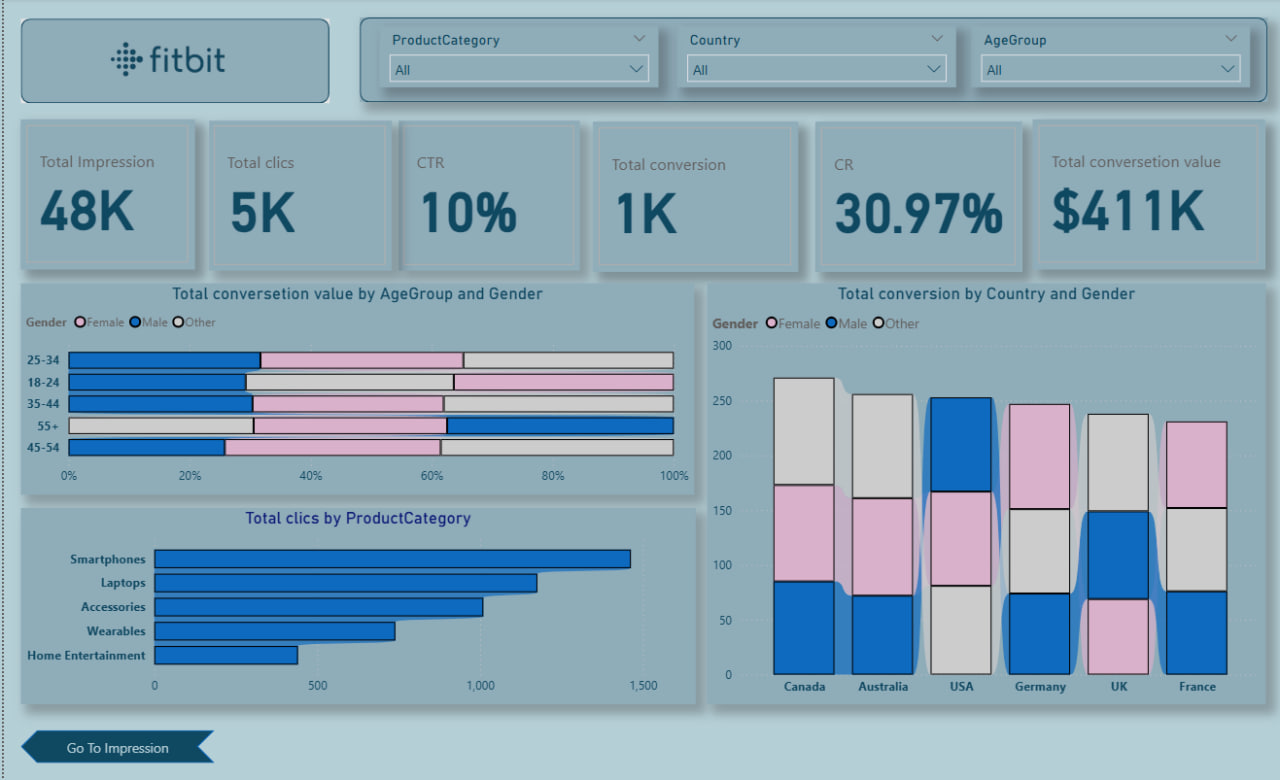

What the dashboard file says about the page in this screenshot:
{"tool":"powerbi","page":{"name":"Commercial Value","canvas":[1280,788],"ordinal":2},"visuals":[{"type":"shape","box":[17.5,20.2,309.3,84.7],"z":0},{"type":"cardVisual","fields":{"Data":["My measure.CTR"]},"box":[395.7,122.9,181.4,150],"z":1000},{"type":"image","box":[32.5,0,265,126.2],"z":2000},{"type":"cardVisual","fields":{"Data":["My measure.CR"]},"box":[814.3,124.3,207.1,150],"z":3000},{"type":"cardVisual","fields":{"Data":["My measure.Total Impression"]},"box":[17.1,121.4,174.3,150],"z":4000},{"type":"cardVisual","fields":{"Data":["My measure.Total conv value"]},"box":[1031.4,121.4,232.9,150],"z":5000},{"type":"cardVisual","fields":{"Data":["My measure.Total conversion"]},"box":[591.4,124.3,205.7,150],"z":6000},{"type":"cardVisual","fields":{"Data":["My measure.Total clics"]},"box":[205.7,122.9,182.9,150],"z":7000},{"type":"shape","box":[356.7,20,910,85],"z":8000},{"type":"slicer","fields":{"Values":["FitBitDataMarketing.AgeGroup"]},"box":[970,28.3,280,61.7],"z":9000},{"type":"slicer","fields":{"Values":["FitBitDataMarketing.Country"]},"box":[675,28.3,280,61.7],"z":10000},{"type":"slicer","fields":{"Values":["FitBitDataMarketing.ProductCategory"]},"box":[376.7,28.3,280,61.7],"z":11000},{"type":"hundredPercentStackedBarChart","fields":{"Y":["My measure.Total conversetion value"],"Category":["FitBitDataMarketing.AgeGroup"],"Series":["FitBitDataMarketing.Gender"]},"box":[16.7,286.7,675,211.7],"z":12000},{"type":"barChart","fields":{"Y":["My measure.Total clics"],"Category":["FitBitDataMarketing.ProductCategory"]},"box":[16.7,511.7,676.7,196.7],"z":13000},{"type":"columnChart","fields":{"Category":["FitBitDataMarketing.Country"],"Series":["FitBitDataMarketing.Gender"],"Y":["My measure.Total conversion"]},"box":[705,286.2,560,422.5],"z":14000},{"type":"shape","box":[17.1,734.3,194.3,32.9],"z":17001}]}

Visuals, with their boxes in screenshot pixels (x1, y1, x2, y2), scaled from the page's 1280x788 canvas onto the 1280x780 screenshot:
shape: 18,20,327,104
cardVisual - My measure.CTR: 396,122,577,270
image: 32,0,298,125
cardVisual - My measure.CR: 814,123,1021,272
cardVisual - My measure.Total Impression: 17,120,191,269
cardVisual - My measure.Total conv value: 1031,120,1264,269
cardVisual - My measure.Total conversion: 591,123,797,272
cardVisual - My measure.Total clics: 206,122,389,270
shape: 357,20,1267,104
slicer - FitBitDataMarketing.AgeGroup: 970,28,1250,89
slicer - FitBitDataMarketing.Country: 675,28,955,89
slicer - FitBitDataMarketing.ProductCategory: 377,28,657,89
hundredPercentStackedBarChart - My measure.Total conversetion value x FitBitDataMarketing.AgeGroup: 17,284,692,493
barChart - My measure.Total clics x FitBitDataMarketing.ProductCategory: 17,507,693,701
columnChart - FitBitDataMarketing.Country x FitBitDataMarketing.Gender: 705,283,1265,702
shape: 17,727,211,759
